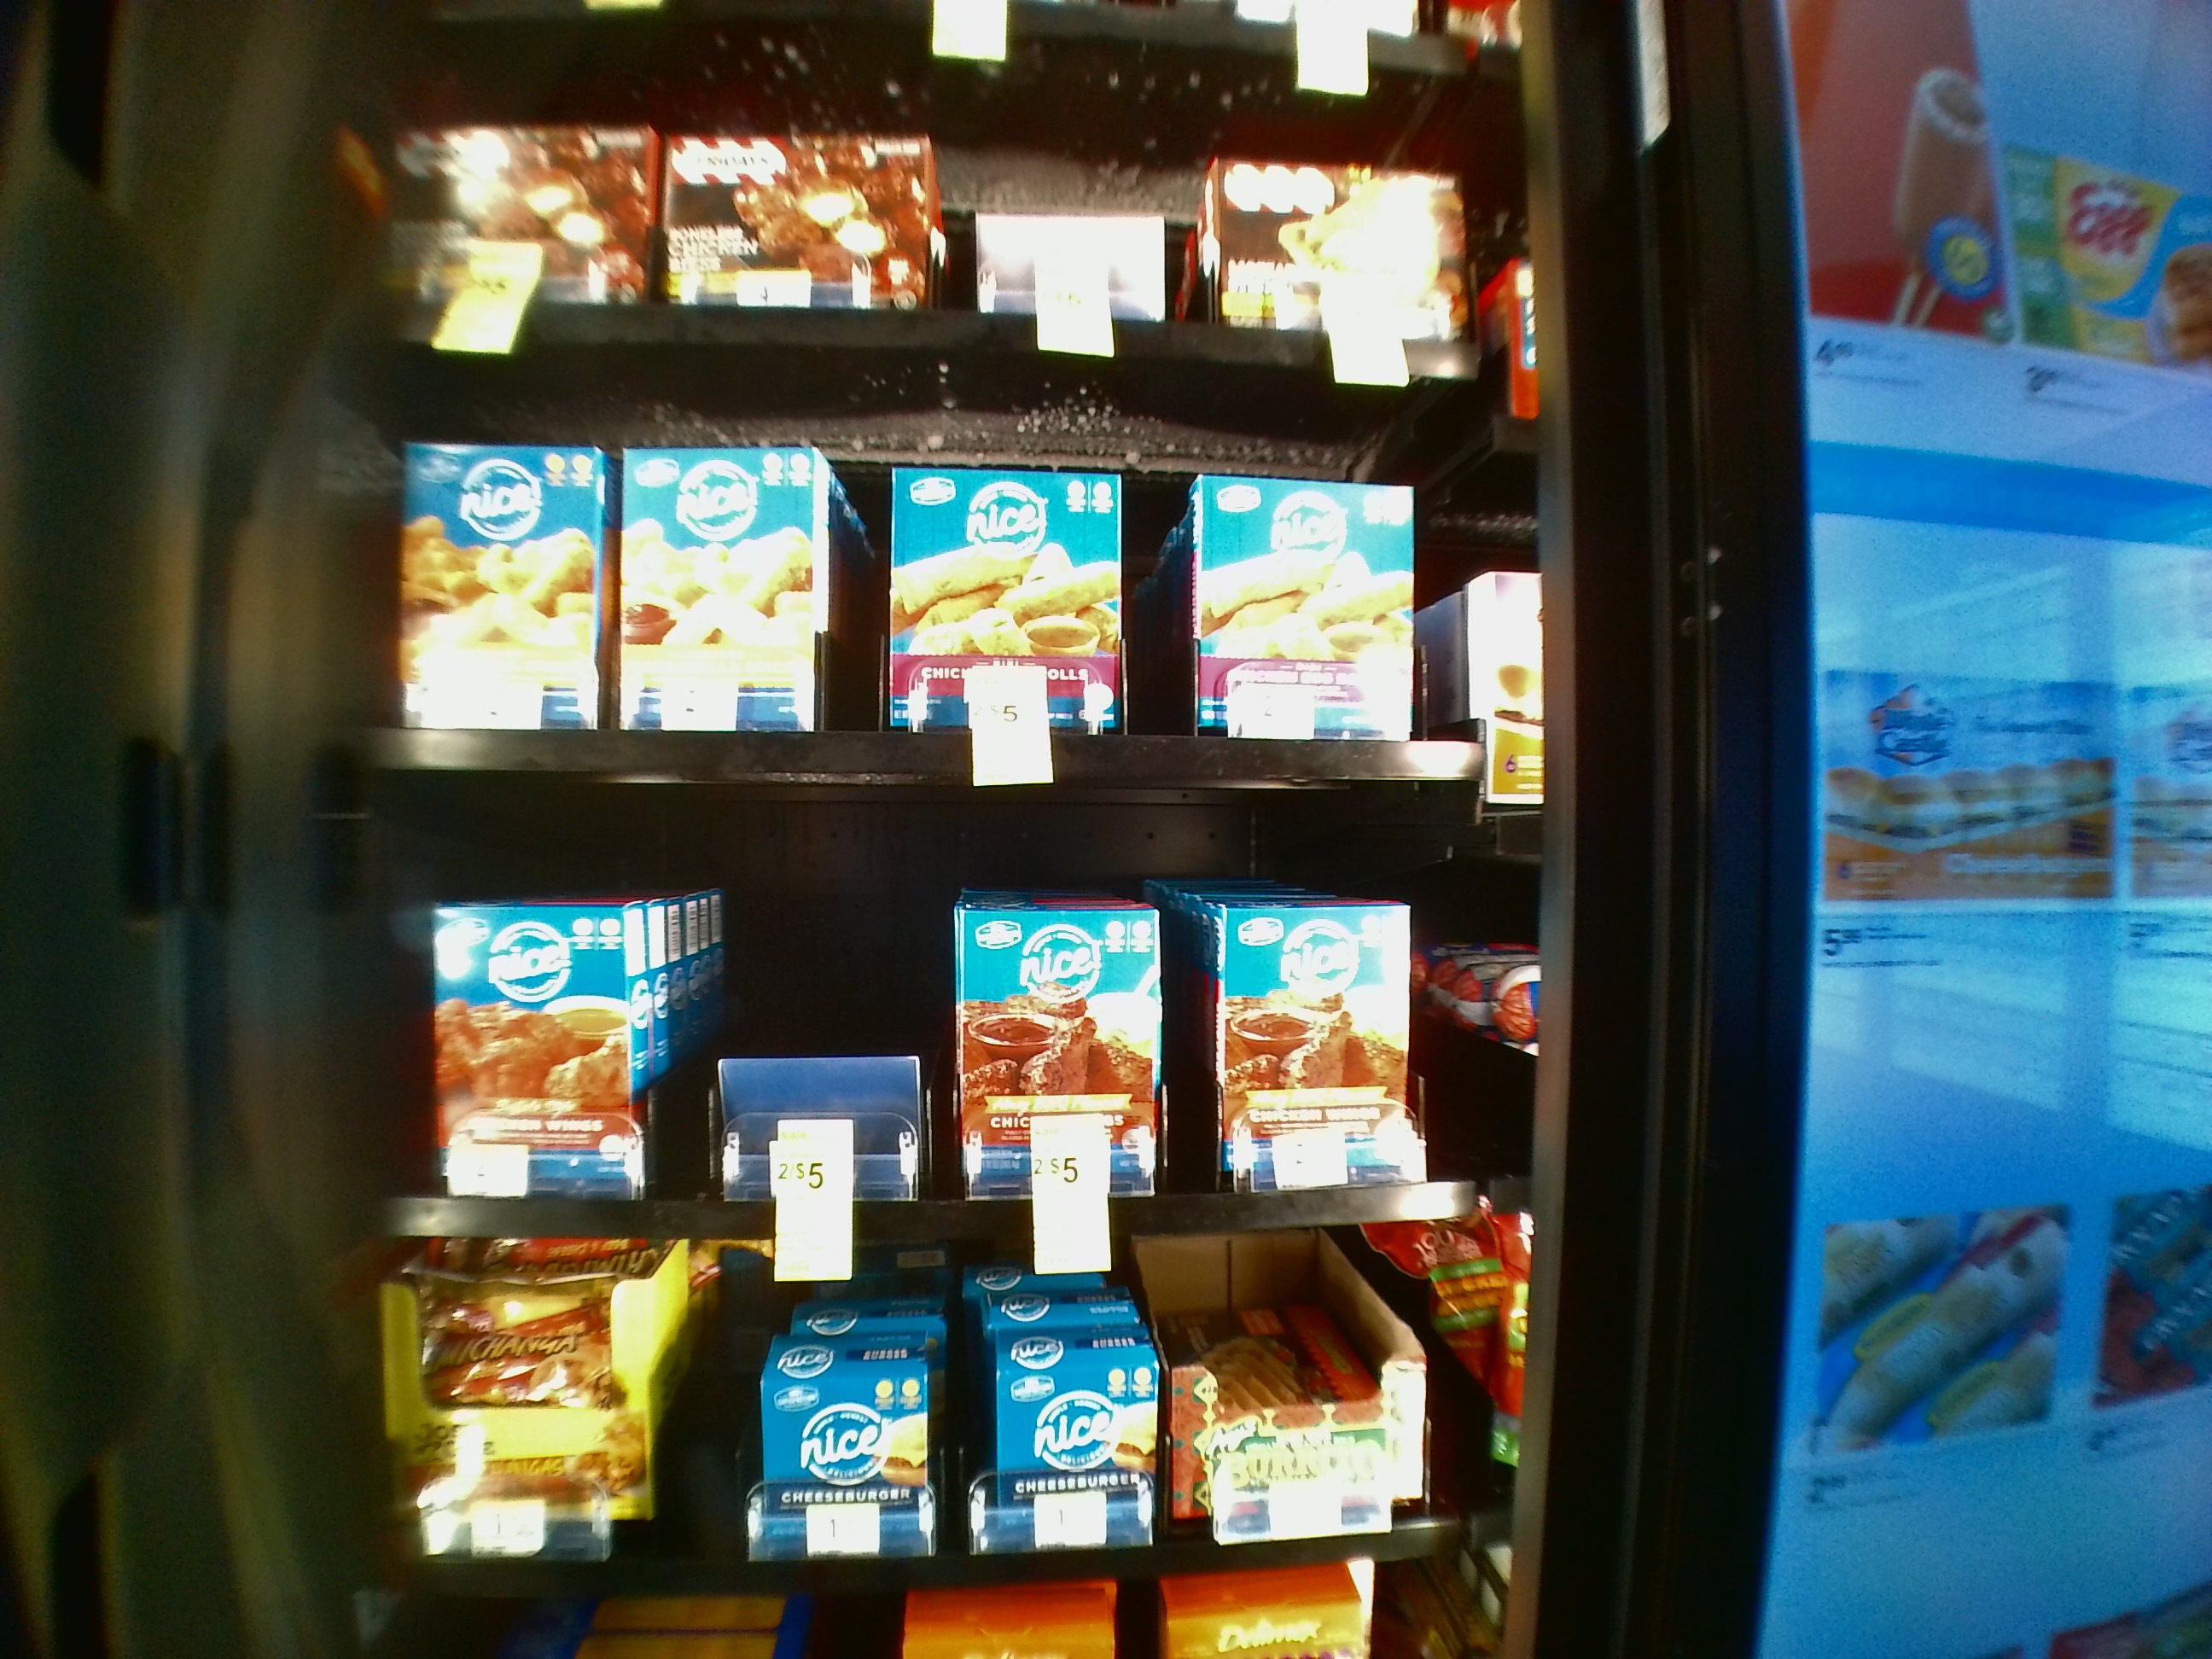shelf: (331, 796, 1533, 1230), (331, 350, 1533, 779)
